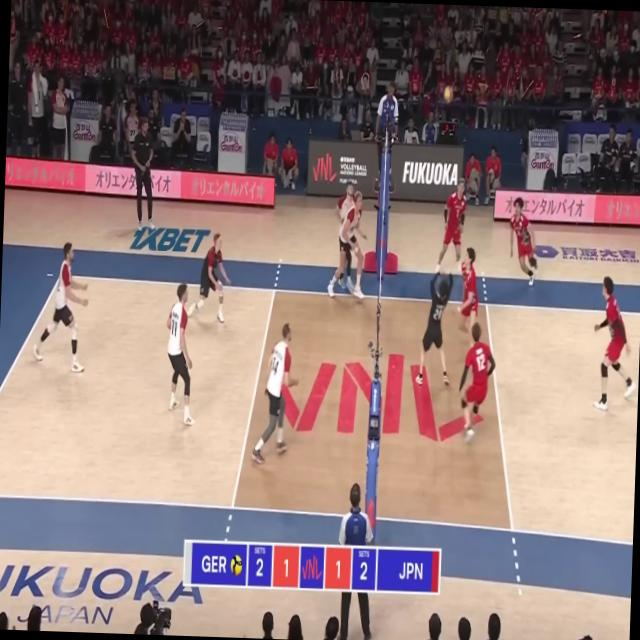referee: (333, 483, 376, 640)
team_one: (34, 238, 91, 374), (252, 322, 301, 467), (161, 282, 200, 428), (326, 182, 368, 303), (185, 230, 232, 324)
team_two: (590, 276, 638, 414), (456, 322, 496, 443), (415, 263, 454, 387), (506, 196, 542, 288), (436, 178, 466, 276), (454, 247, 480, 350)
